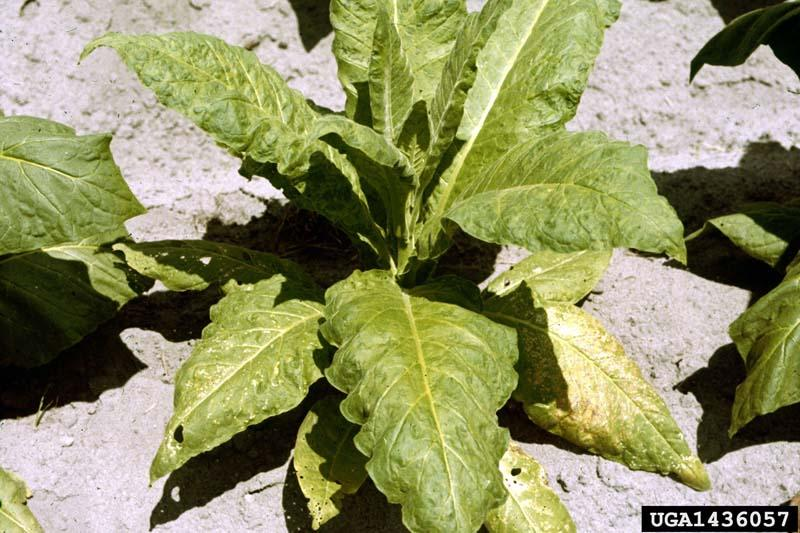Tomato leaf yellow virus: (73, 28, 385, 239), (317, 271, 523, 533), (155, 252, 321, 460), (456, 144, 695, 265)
